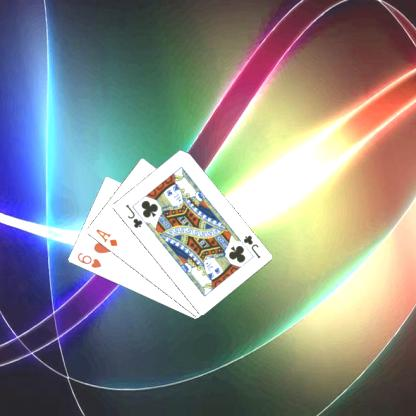6H: (74, 250, 102, 270)
AD: (92, 226, 119, 248)
JC: (122, 201, 144, 230), (240, 232, 262, 260)
